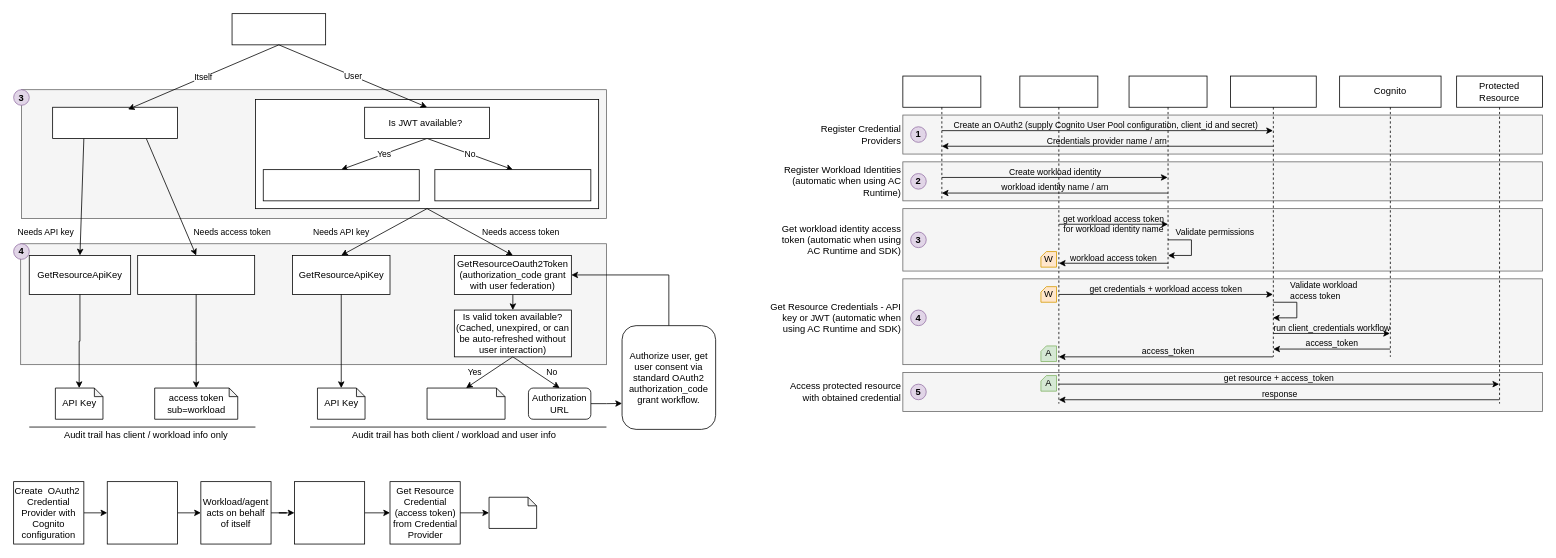
The diagram is 1556 pixels wide and 558 high, and some of its shapes have lost their labels. The shapes that lost their labels are listed below. From the top down, each one's box as (x1, y1, x2, y2) in pixels, then its label:
(231, 13, 326, 45): Agent acts on behalf of....
(52, 106, 177, 138): GetWorkloadAccessToken
(902, 75, 981, 201): Operator / Admin
(262, 169, 419, 201): GetWorkloadAccessTokenForJWT
(434, 169, 591, 201): GetWorkloadAccessTokenForUserId
(1128, 75, 1207, 271): Workload Identities Registry
(1230, 75, 1316, 357): Credentials Providers Registry
(1019, 75, 1098, 404): Workload (e.g. Agent)
(137, 255, 255, 294): GetResourceOauth2Token (client_credentials grant)
(426, 387, 505, 419): access token sub=user
(106, 481, 177, 544): Create a Workload Identity
(294, 481, 365, 544): Get Workload Access Token
(488, 496, 537, 528): access token
